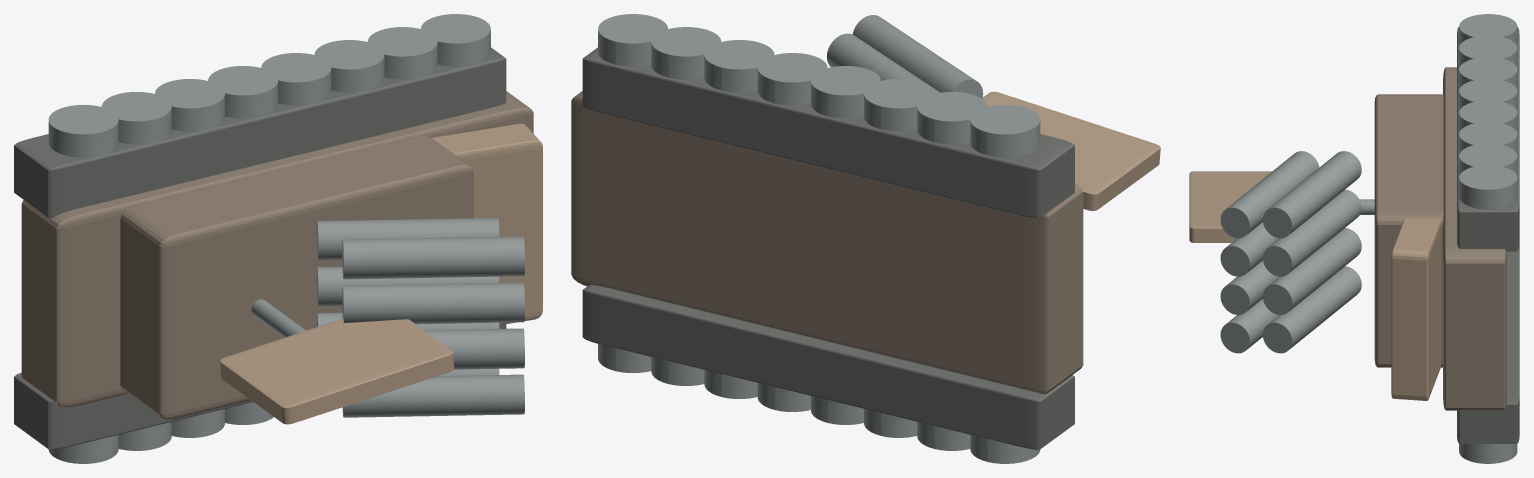
Rendered from d-u15-dominion-mobile-sam-lod1.glb.
The picture shows the model from 3 angles, left to right: view 1: azimuth 30°, elevation 25°; view 2: azimuth 150°, elevation 25°; view 3: azimuth 270°, elevation 25°; orthographic projection. The views are drawn at different scales.
Visible parts, largest first — view 1: upper_hull, chassis_track_1, chassis_lower, sam_radar_array, chassis_glacis, sam_tube_8, sam_tube_7, chassis_track_-1, sam_tube_5, sam_tube_4, chassis_roadwheel_1_0, sam_tube_6 (+14 smaller); view 2: chassis_lower, chassis_track_-1, chassis_track_1, sam_radar_array, sam_tube_8, chassis_roadwheel_1_0, chassis_roadwheel_1_7, chassis_roadwheel_1_2, chassis_roadwheel_1_5, chassis_roadwheel_1_4, chassis_roadwheel_1_1, chassis_roadwheel_1_6 (+10 smaller); view 3: chassis_lower, upper_hull, chassis_glacis, chassis_track_-1, sam_tube_4, chassis_track_1, sam_radar_array, sam_tube_2, sam_tube_1, sam_tube_3, sam_tube_8, chassis_roadwheel_1_7 (+11 smaller).
Boxes of the visible parts, <box> form: upper_hull: <box>120,136,473,419</box>; chassis_track_1: <box>14,47,506,218</box>; chassis_lower: <box>21,91,533,407</box>; sam_radar_array: <box>220,318,454,424</box>; chassis_glacis: <box>432,123,542,325</box>; sam_tube_8: <box>342,236,524,279</box>; sam_tube_7: <box>342,282,524,324</box>; chassis_track_-1: <box>14,324,506,449</box>; sam_tube_5: <box>342,374,524,417</box>; sam_tube_4: <box>316,217,499,260</box>; chassis_roadwheel_1_0: <box>48,104,118,157</box>; sam_tube_6: <box>424,328,524,369</box>; chassis_lower: <box>571,91,1083,394</box>; chassis_track_-1: <box>582,285,1074,449</box>; chassis_track_1: <box>582,47,1074,218</box>; sam_radar_array: <box>982,91,1160,210</box>; sam_tube_8: <box>852,15,983,98</box>; chassis_roadwheel_1_0: <box>970,104,1040,157</box>; chassis_roadwheel_1_7: <box>598,14,667,66</box>; chassis_roadwheel_1_2: <box>864,79,933,131</box>; chassis_roadwheel_1_5: <box>704,40,774,92</box>; chassis_roadwheel_1_4: <box>757,53,827,105</box>; chassis_roadwheel_1_1: <box>917,92,987,144</box>; chassis_roadwheel_1_6: <box>651,27,721,79</box>; chassis_lower: <box>1443,67,1506,410</box>; upper_hull: <box>1374,94,1443,367</box>; chassis_glacis: <box>1391,218,1441,400</box>; chassis_track_-1: <box>1457,244,1519,443</box>; sam_tube_4: <box>1262,151,1361,238</box>; chassis_track_1: <box>1457,27,1519,251</box>; sam_radar_array: <box>1189,171,1271,242</box>; sam_tube_2: <box>1262,228,1361,314</box>; sam_tube_1: <box>1262,266,1361,353</box>; sam_tube_3: <box>1263,189,1361,276</box>; sam_tube_8: <box>1220,151,1319,238</box>; chassis_roadwheel_1_7: <box>1459,165,1517,209</box>.
Size of what is drawn, in the model's own units: 6.4 by 4.22 by 4.61.
